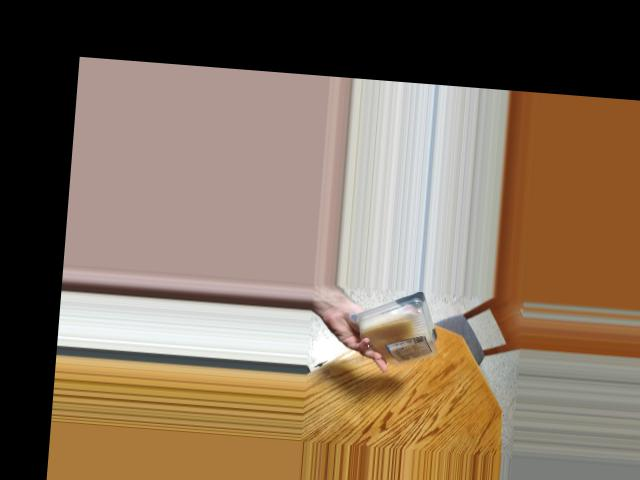cheese: (356, 292, 440, 366)
